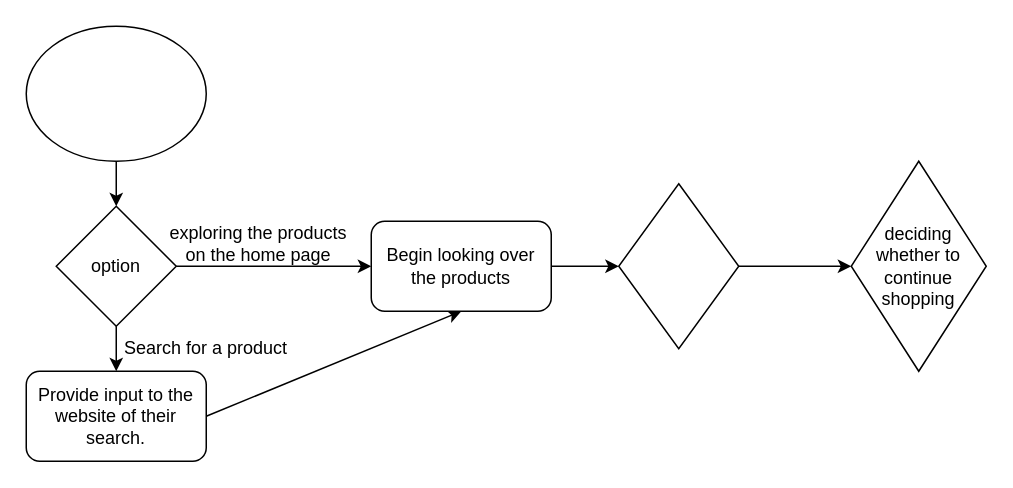
Some shapes in this 1013 by 488 pixel diagram are drawn without their labels. Here are the shapes that lost their labels. From the top down, the centre of each, then its label:
pixel 115 93: The user begins by entering the website
pixel 678 265: viewing a specific product
